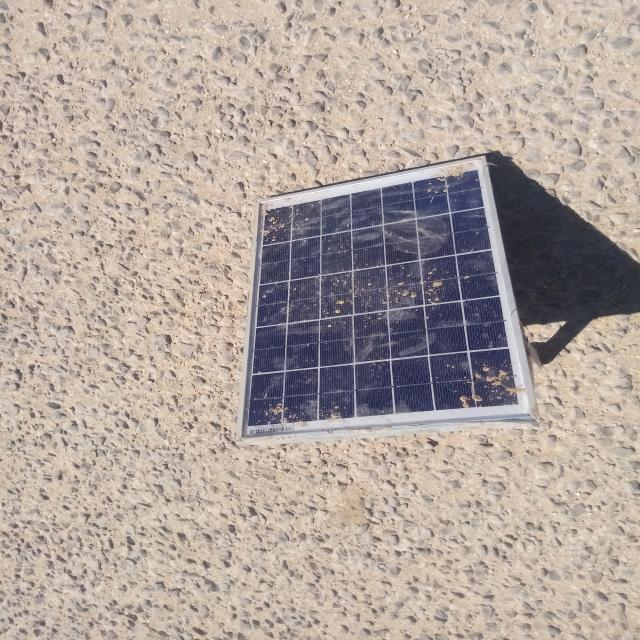faulty: (239, 158, 538, 438)
